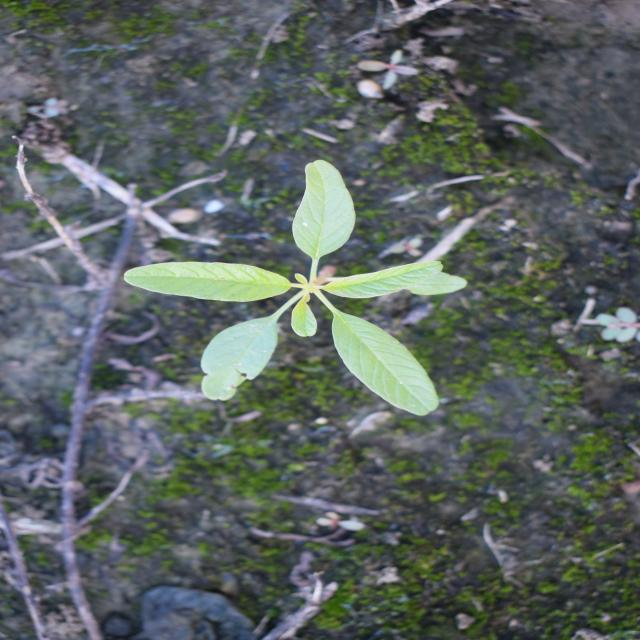Waterhemp: (120, 159, 471, 419)
